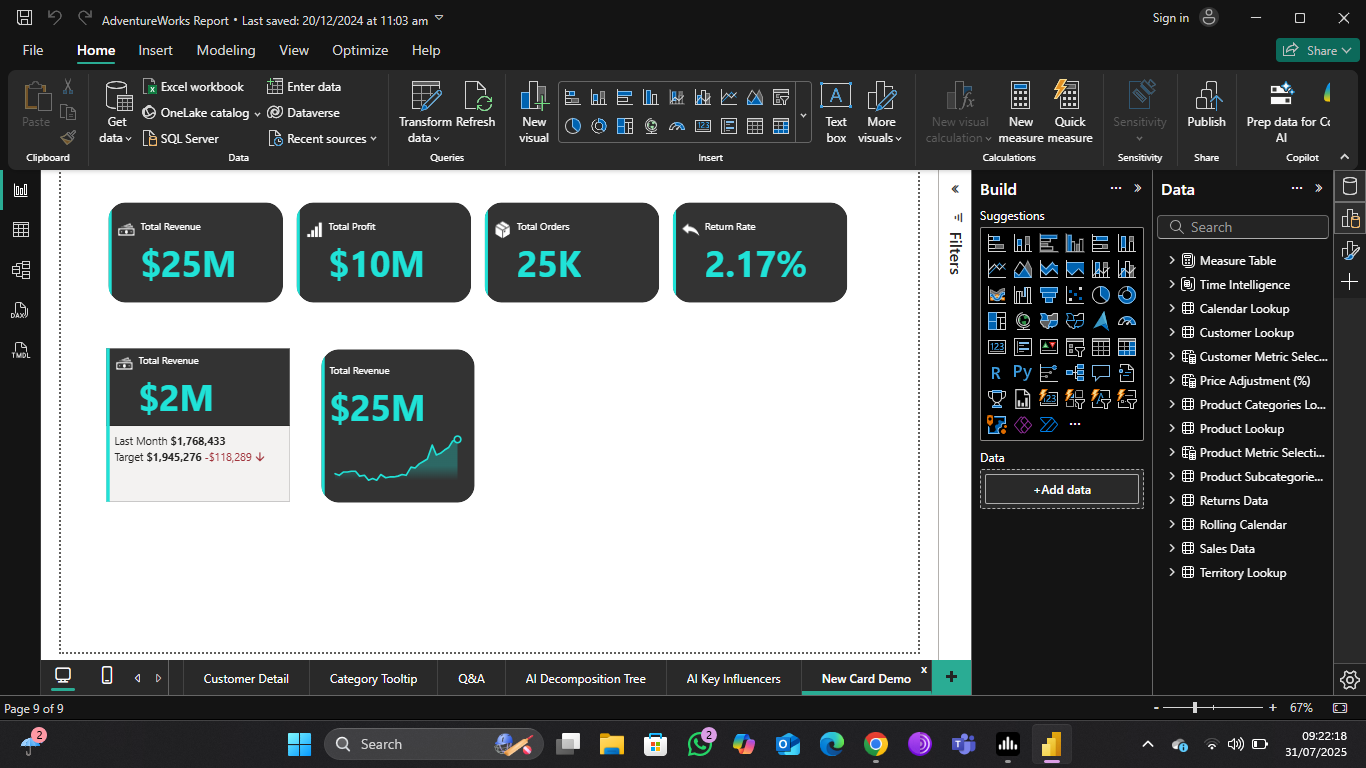

This screenshot's page, from the dashboard's own definition file:
{"tool":"powerbi","page":{"name":"New Card Demo","canvas":[1280,720],"ordinal":8},"visuals":[{"type":"cardVisual","fields":{"Data":["Measure Table.Total Revenue","Measure Table.Total Profit","Measure Table.Total Orders","Measure Table.Return Rate"]},"box":[65,44,1115.6,160],"z":0},{"type":"cardVisual","fields":{"Data":["Measure Table.Total Revenue"]},"box":[62.7,262.1,284.2,239.9],"z":1000},{"type":"cardVisual","fields":{"Data":["Measure Table.Total Revenue"]},"box":[383.9,262.8,239.6,239.6],"z":2000}]}

Visuals, with their boxes on the page's 1280x720 design canvas (x1, y1, x2, y2). These are canvas units, not pixel positions in the 1366x768 screenshot, which may show the page scaled, cropped or inside an application window:
cardVisual - Measure Table.Total Revenue x Measure Table.Total Profit: box(65, 44, 1181, 204)
cardVisual - Measure Table.Total Revenue: box(63, 262, 347, 502)
cardVisual - Measure Table.Total Revenue: box(384, 263, 624, 502)
